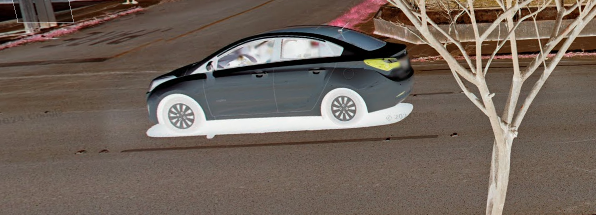car: (144, 21, 421, 139)
